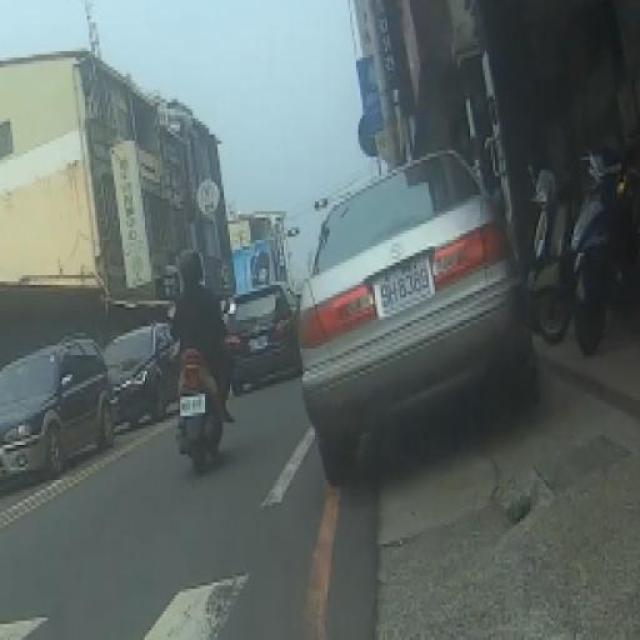Legalparking: (517, 133, 638, 374)
illegalparking: (288, 146, 578, 478)
